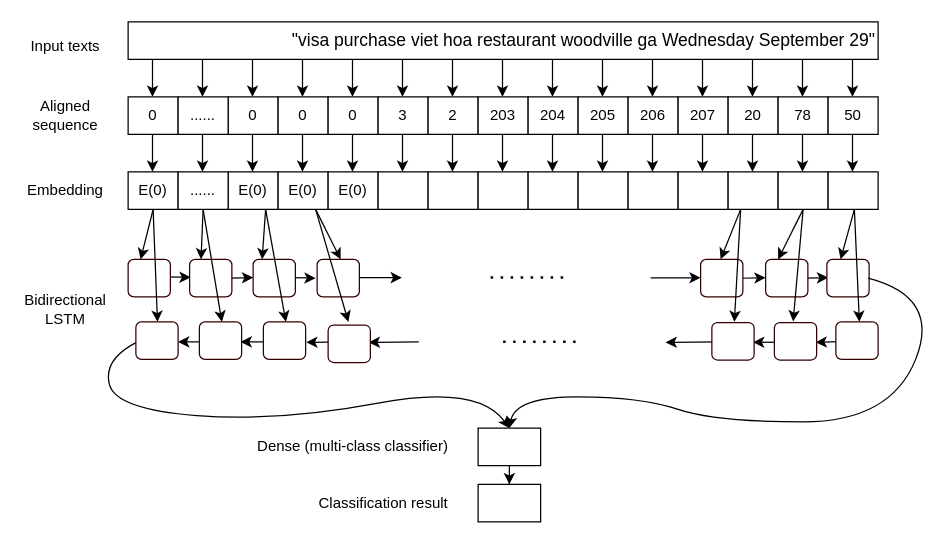
This 944x544 diagram has some shape labels left out. Each missing label, with the centre of its shape:
E(2): (x=452, y=190)
E(20): (x=752, y=190)
E(203): (x=502, y=190)
E(204): (x=552, y=190)
E(205): (x=602, y=190)
E(206): (x=652, y=190)
E(207): (x=702, y=190)
E(3): (x=402, y=190)
E(50): (x=852, y=190)
E(78): (x=802, y=190)
